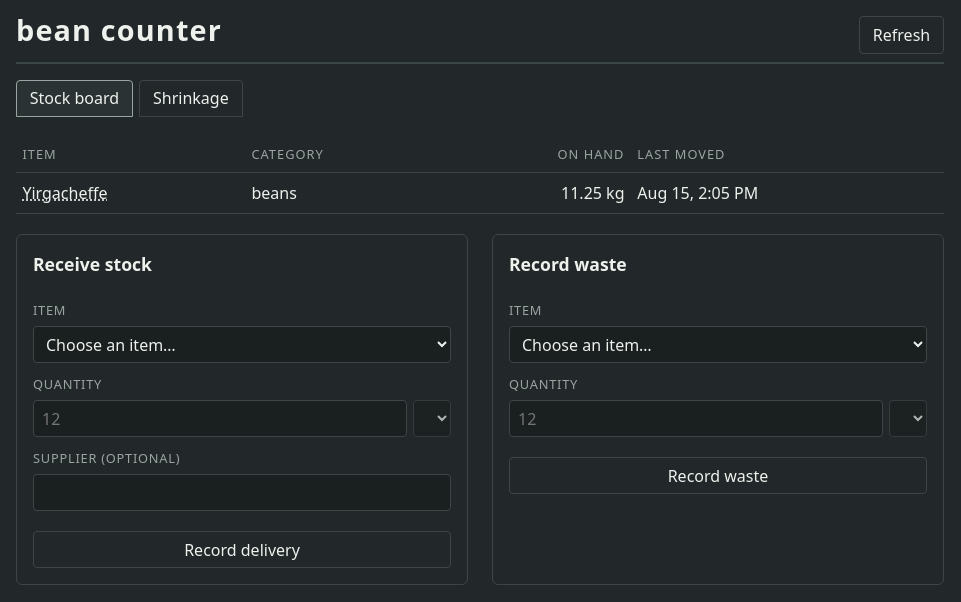
Test: shrinkage report › states shrinkage, overage, reconciling and never-counted in shop words
Check: the button "Yirgacheffe" is shown, box [22, 181, 108, 205]
Click the tab "Shrinkage" at {"x": 191, "y": 98}, box [139, 80, 242, 117]
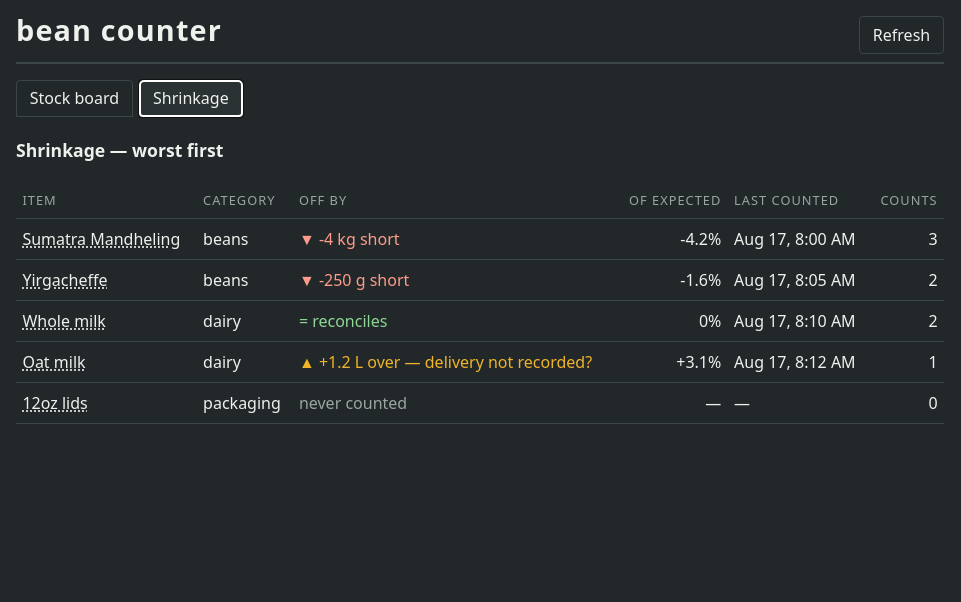
Check: the row "Sumatra Mandheling" shows "-4 kg", box [299, 228, 400, 250]
Check: the row "Sumatra Mandheling" shows "short", box [299, 228, 400, 250]
Check: the row "Oat milk" shows "+1.2 L", box [299, 351, 592, 373]
